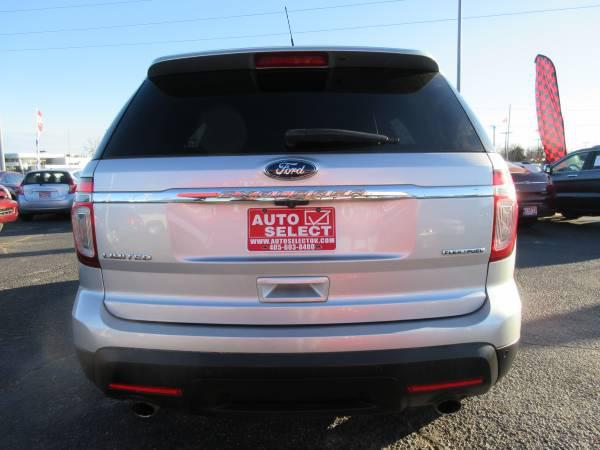Left_Taillight: (73, 183, 101, 273)
Rear_Bumper: (69, 242, 524, 407)
Rear_Windshield: (93, 59, 492, 157)
Right_Taillight: (492, 169, 522, 261)
Tailgate: (81, 150, 507, 327)
